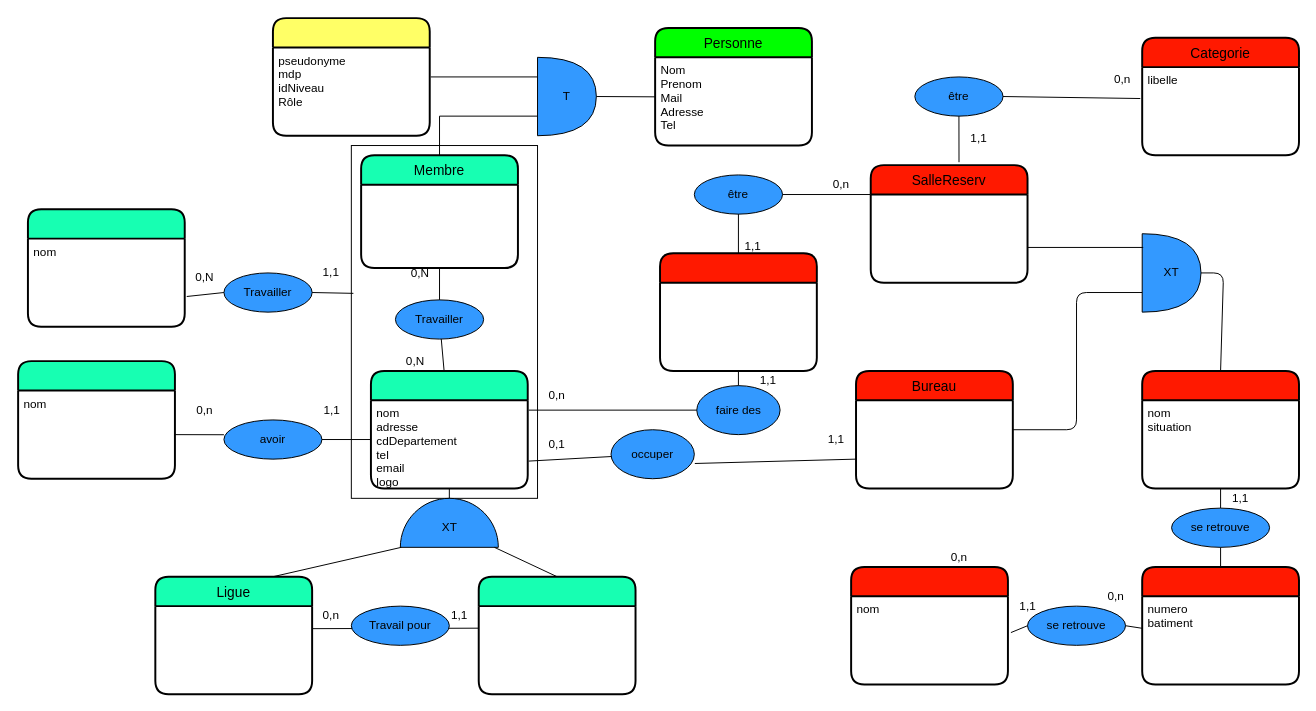
This 1316x711 diagram has some shape labels left out. The box of each missing label's shape, as (x1, y1, x2, y2) in pixels:
Association: (369, 369, 528, 489)
Batiment: (850, 565, 1008, 685)
Comité: (477, 575, 636, 695)
discipline: (17, 360, 175, 479)
Etage: (1141, 565, 1299, 685)
Métier: (26, 208, 185, 327)
Reservations: (659, 252, 817, 371)
Salle: (1141, 369, 1299, 489)
Utilisateur: (271, 17, 430, 136)
